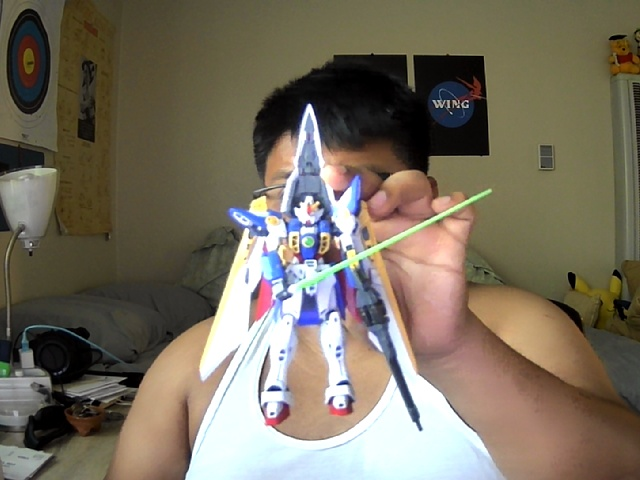Wing-01: (199, 102, 494, 432)
